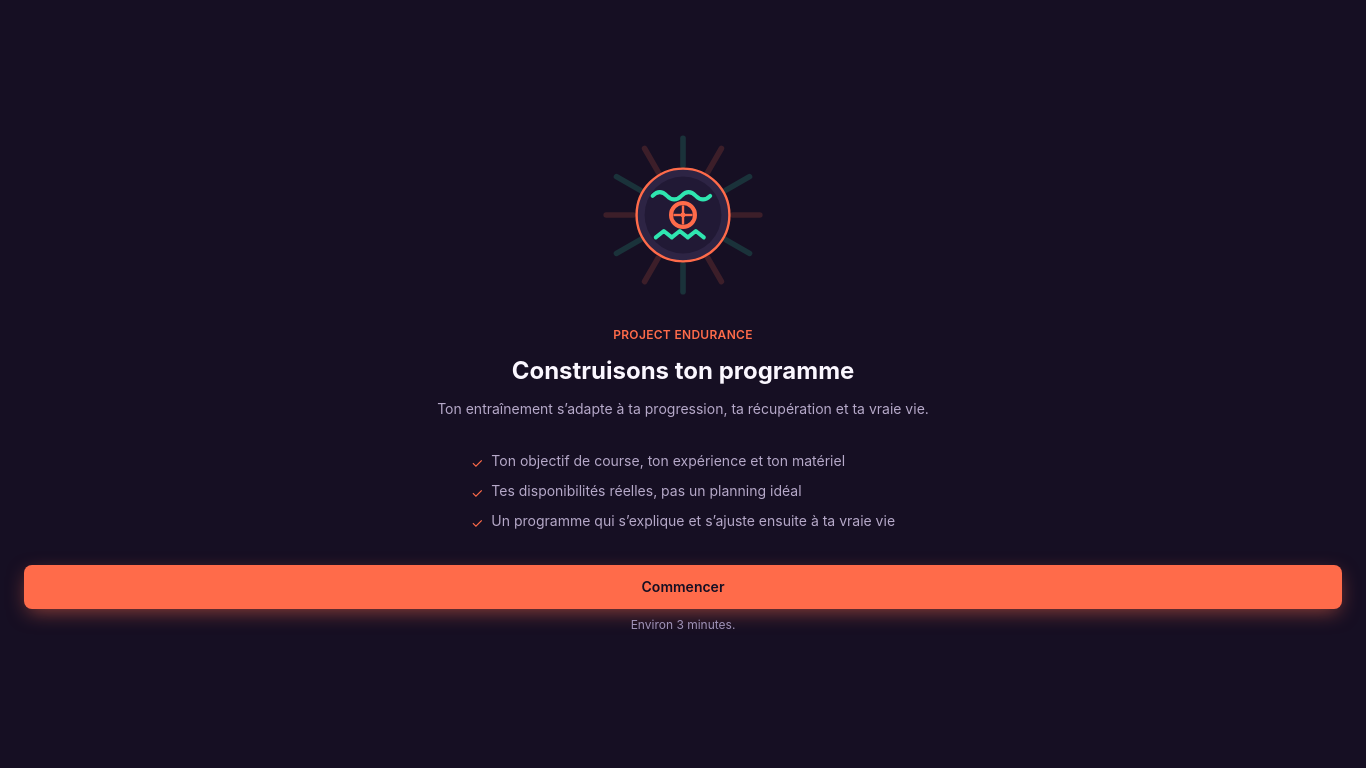
Test: OnboardingPage › keeps Continue disabled until the current step is valid
Click the button "Commencer". click: (683, 587)
box: [24,565,1342,609]
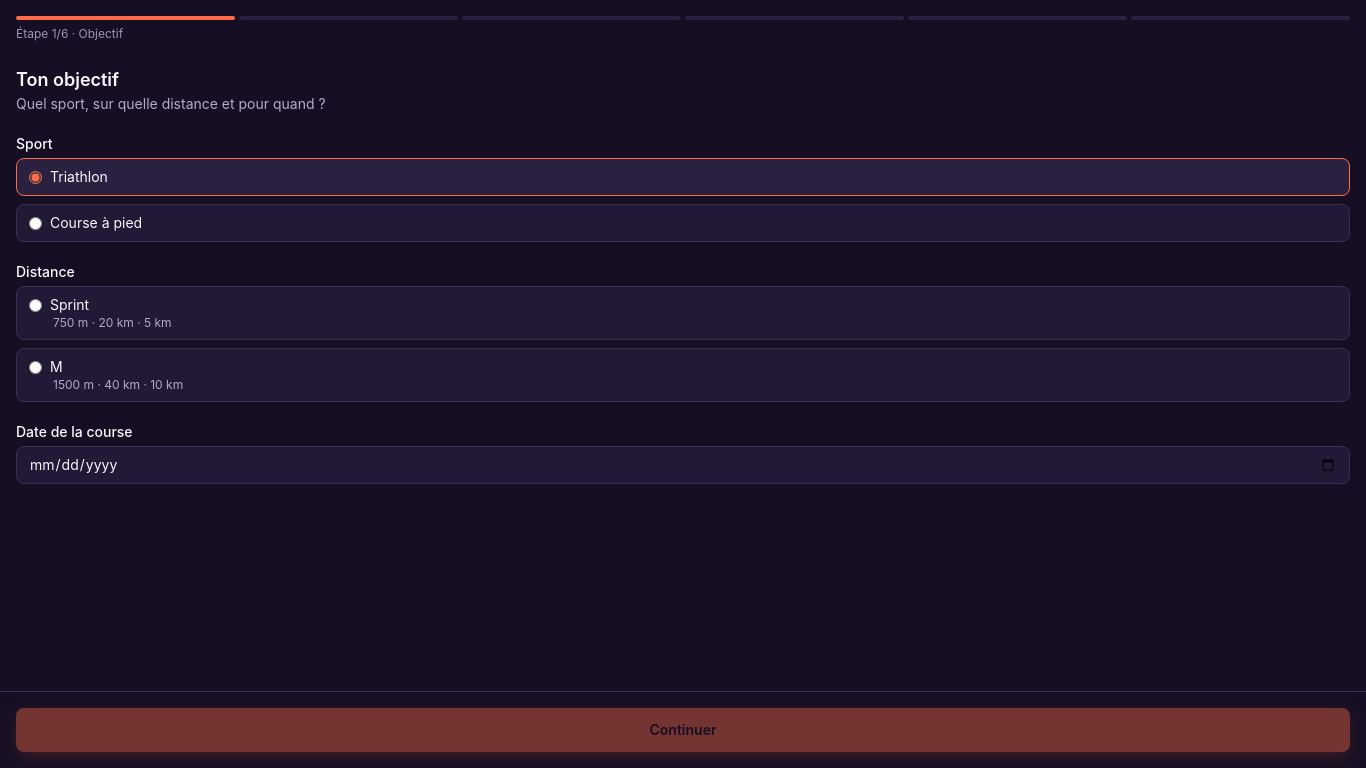
Check: the button "Continuer" is disabled, box [16,708,1350,752]
